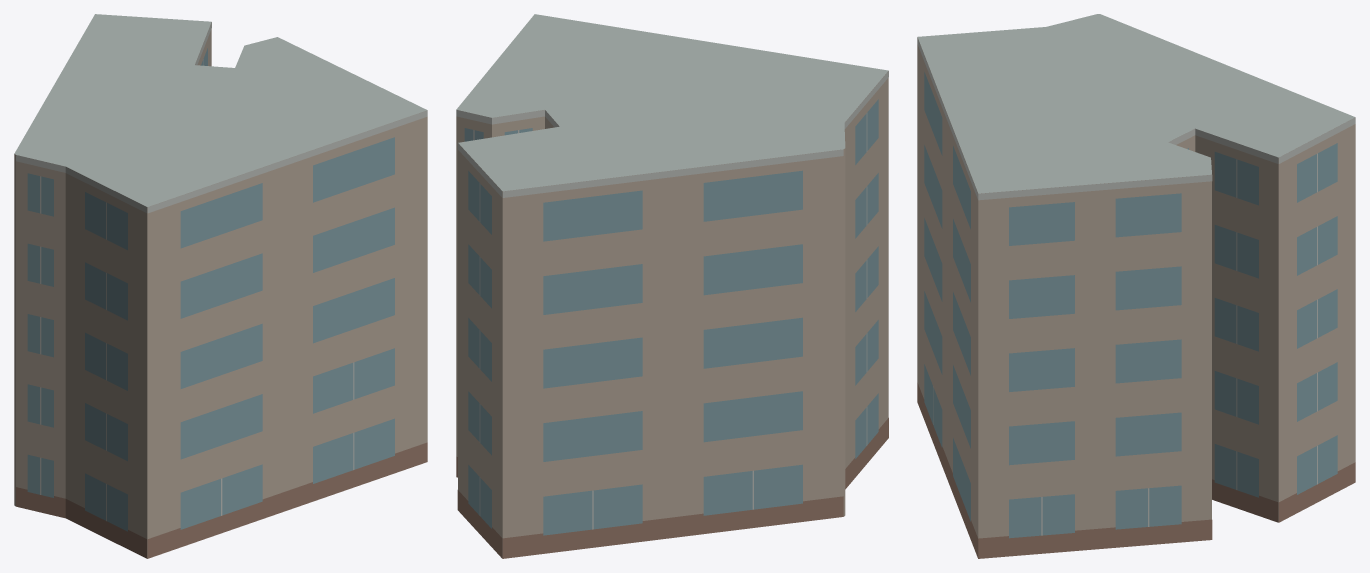
The model's file is survey-upis-32841123.glb.
The picture shows the model from 3 angles, left to right: view 1: azimuth 30°, elevation 25°; view 2: azimuth 150°, elevation 25°; view 3: azimuth 270°, elevation 25°; orthographic projection. The views are drawn at different scales.
Visible parts, largest first — view 1: survey-upis-32841123.tmp; view 2: survey-upis-32841123.tmp; view 3: survey-upis-32841123.tmp.
Part boxes in pixels (box(x1,y1,x2,y2)): survey-upis-32841123.tmp: box(14, 14, 427, 558); survey-upis-32841123.tmp: box(456, 14, 888, 558); survey-upis-32841123.tmp: box(917, 14, 1355, 558).
Bounding box in the file's own units: 14.15 × 13.4 × 14.58.
